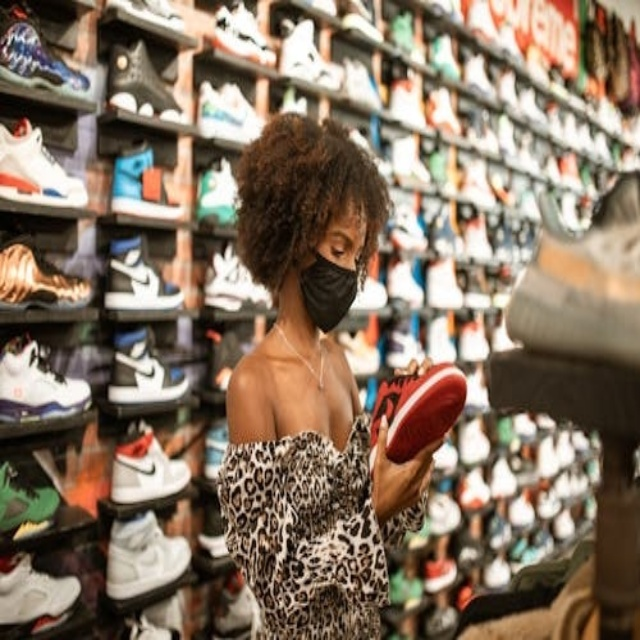Mascara: (297, 248, 361, 333)
Sin_gafas: (323, 217, 372, 273)
Sin_guantes: (367, 411, 448, 532)
